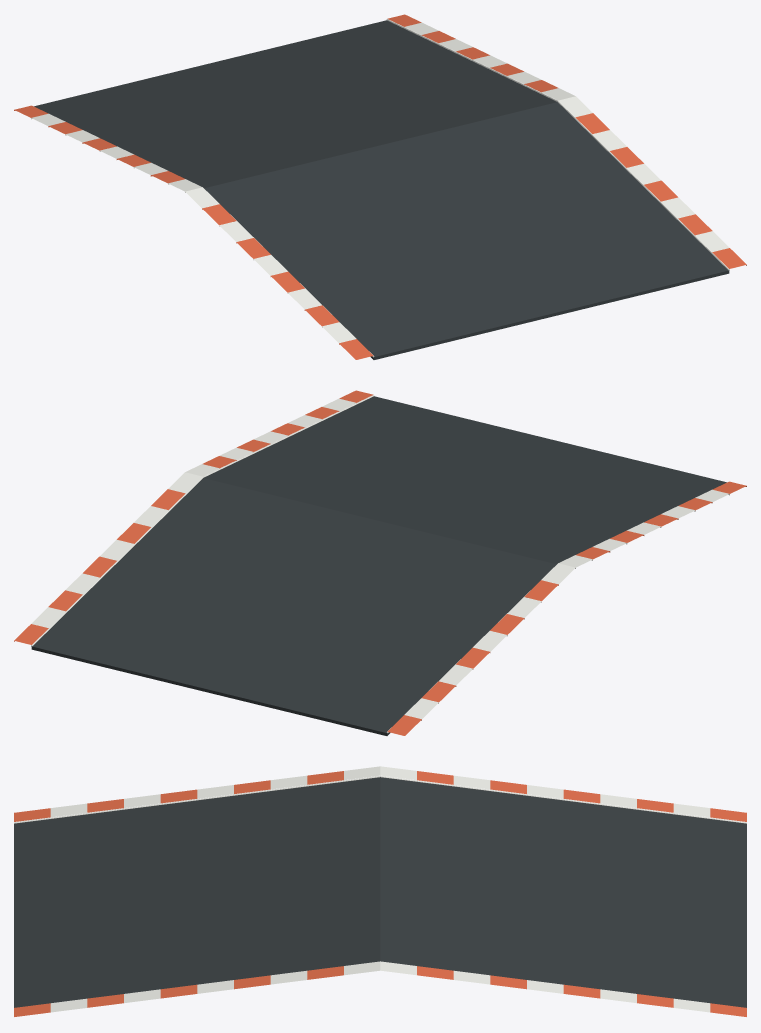
The model's file is grand-prix-circuit-and-open-wheel-crest-946f4757__15196.glb.
The picture shows the model from 3 angles, top to bottom: view 1: azimuth 30°, elevation 25°; view 2: azimuth 150°, elevation 25°; view 3: azimuth 270°, elevation 25°; orthographic projection. The views are drawn at different scales.
Parts seen in each view (by area): view 1: crest; view 2: crest; view 3: crest.
Part boxes in pixels (x1,y1,x2,y2): crest: [14, 14, 746, 359]; crest: [14, 390, 746, 735]; crest: [14, 766, 746, 1016].
Size of the model in its own units: 13.2 by 1.54 by 20.01.
